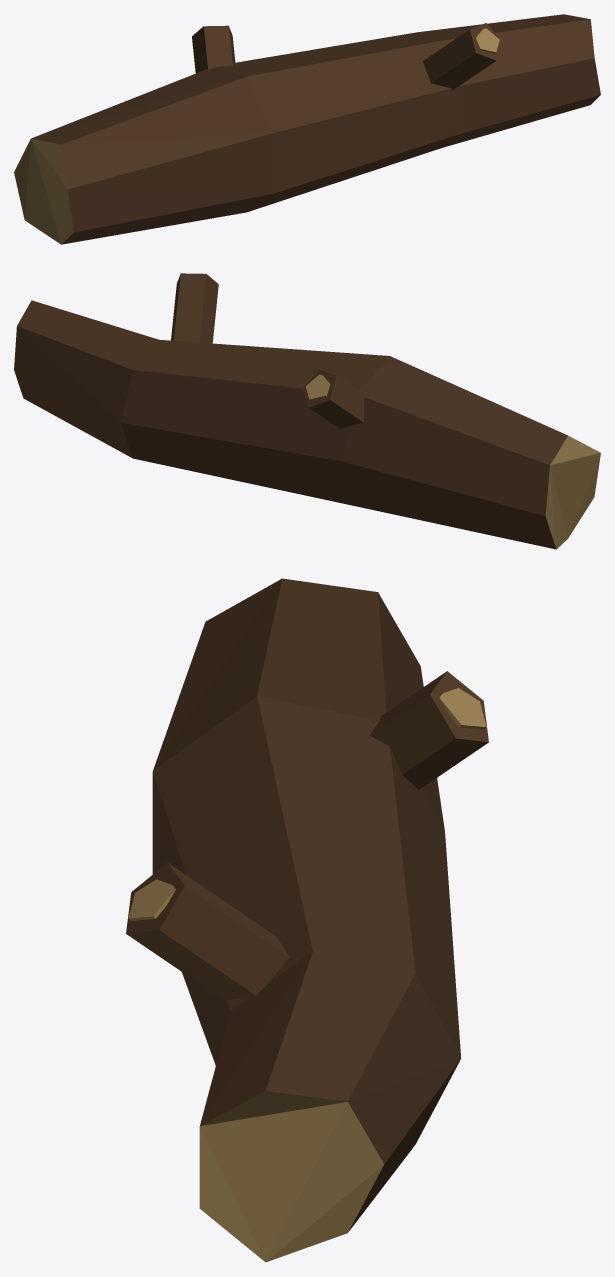
File: E8_log_a.glb
The picture shows the model from 3 angles, top to bottom: view 1: azimuth 30°, elevation 25°; view 2: azimuth 150°, elevation 25°; view 3: azimuth 270°, elevation 25°; orthographic projection. The views are drawn at different scales.
Visible parts, largest first — view 1: E8_log_a; view 2: E8_log_a; view 3: E8_log_a.
Boxes of the visible parts, x1,y1,x2,y2 form: E8_log_a: (14, 14, 600, 244); E8_log_a: (14, 273, 600, 549); E8_log_a: (126, 578, 488, 1262).
Size of the model in its own units: 1.5 by 0.4004 by 0.4382.
